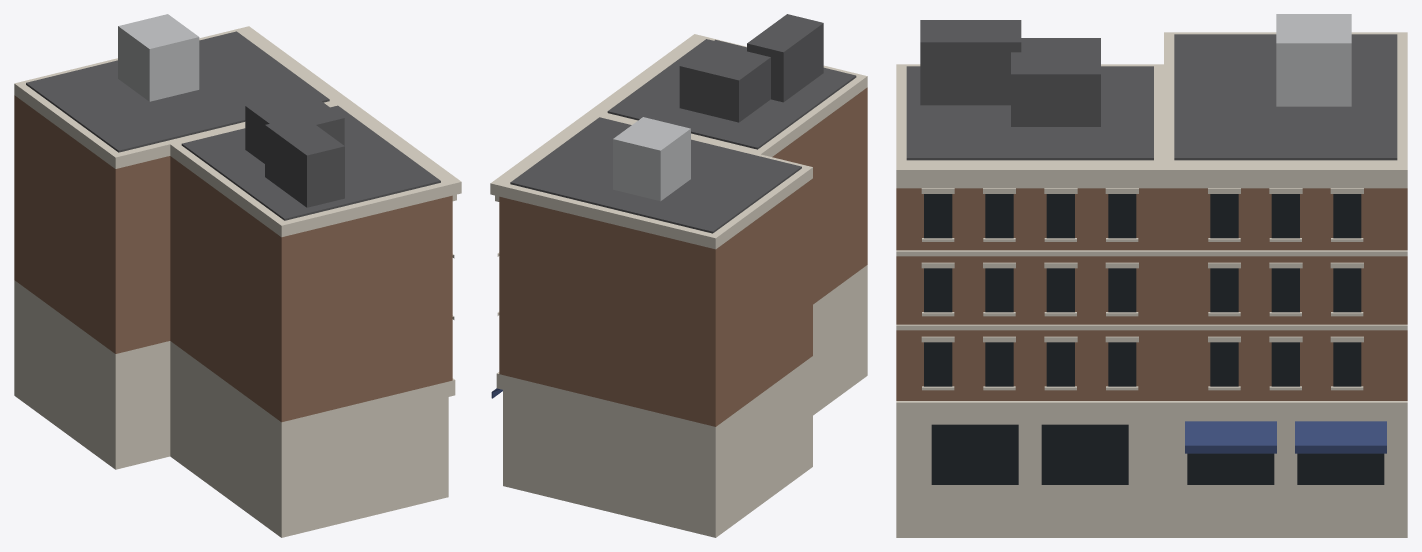
The picture shows the model from 3 angles, left to right: view 1: azimuth 30°, elevation 25°; view 2: azimuth 150°, elevation 25°; view 3: azimuth 270°, elevation 25°; orthographic projection. The views are drawn at different scales.
Parts seen in each view (by area): view 1: facades, roofs; view 2: facades, roofs; view 3: facades, roofs, windows.
Boxes of the visible parts, <box> form: facades: <box>14,26,461,537</box>; roofs: <box>26,14,440,220</box>; facades: <box>490,34,867,537</box>; roofs: <box>510,14,856,233</box>; facades: <box>896,32,1407,537</box>; roofs: <box>906,14,1397,160</box>; windows: <box>924,194,1384,484</box>.
Bounding box in the file's own units: 13.15 × 19.04 × 20.
